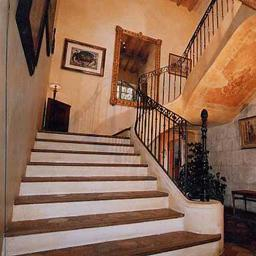Escaleras: (25, 84, 225, 255)
